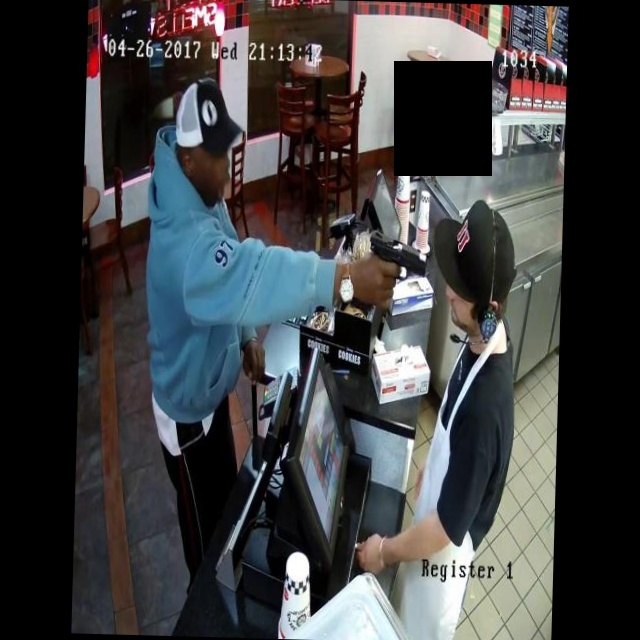gun: (356, 214, 434, 303)
